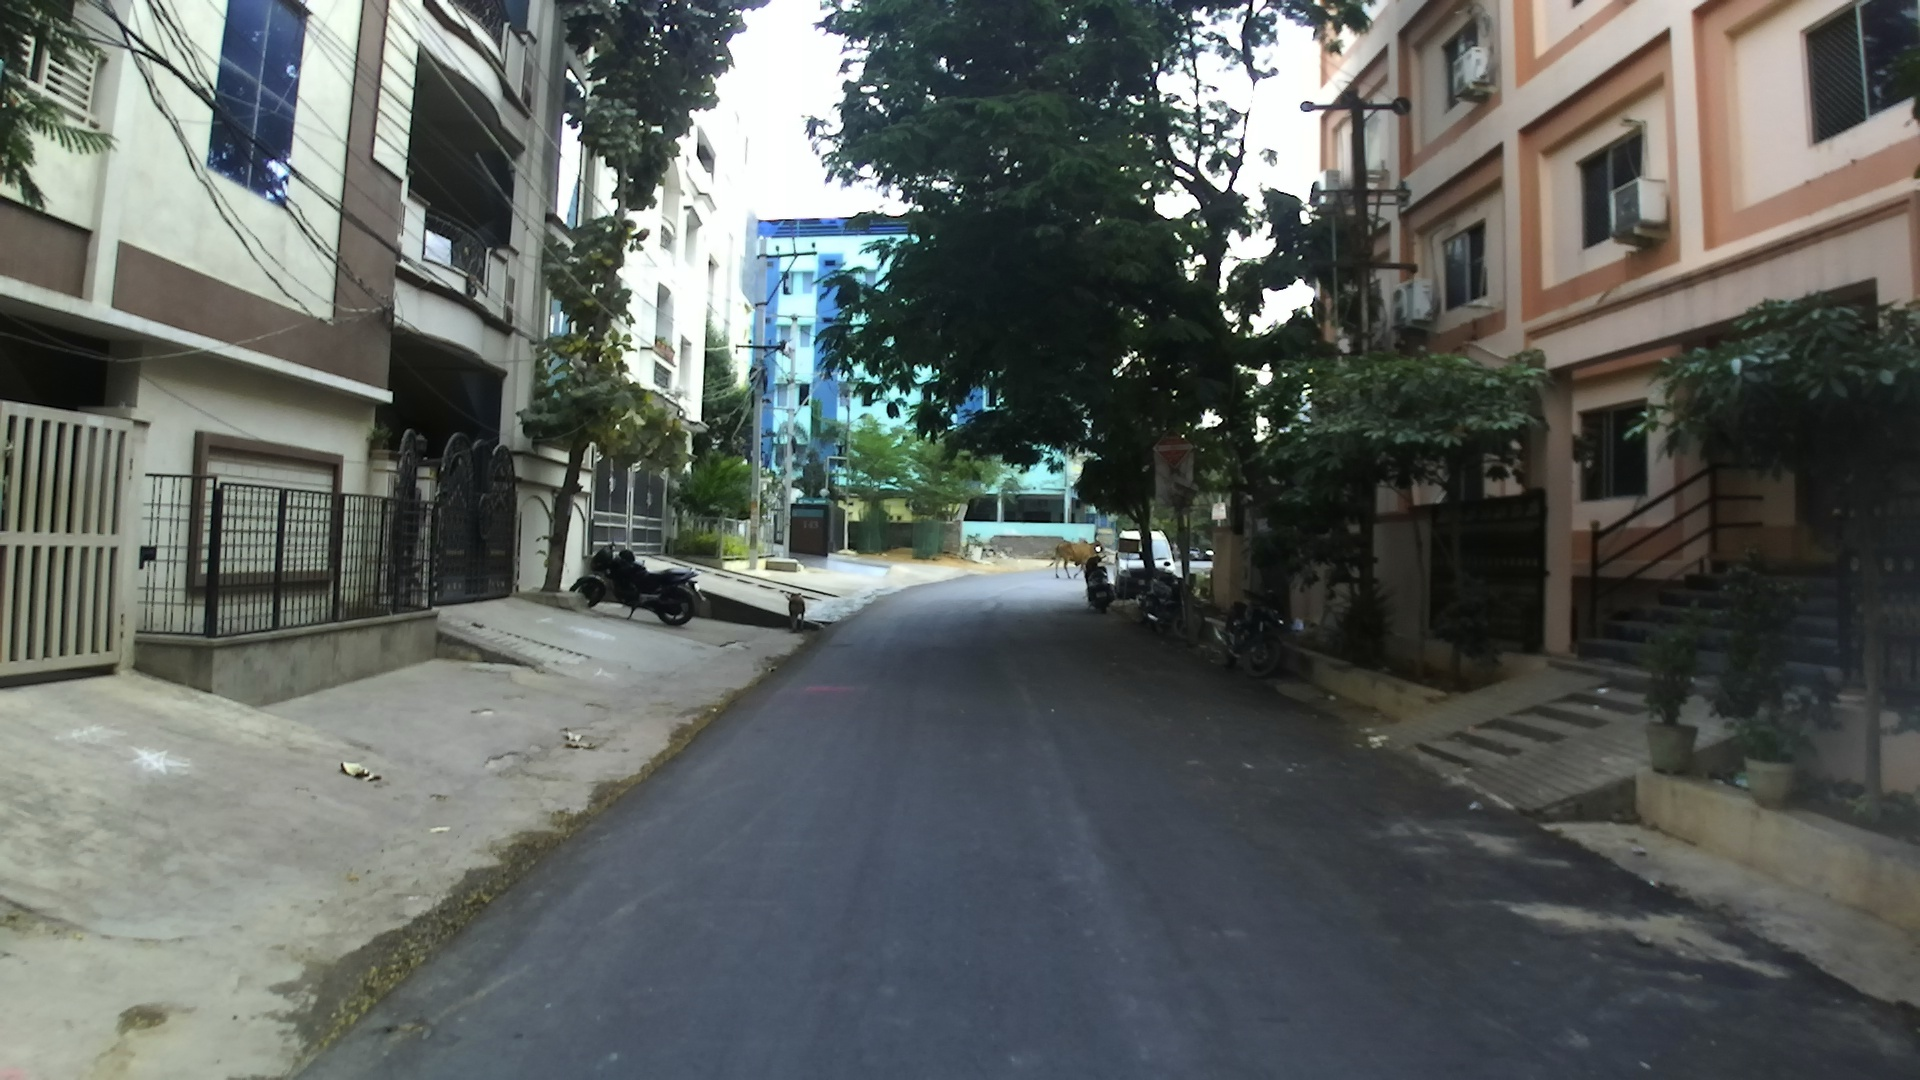vehicle: (568, 546, 702, 628)
